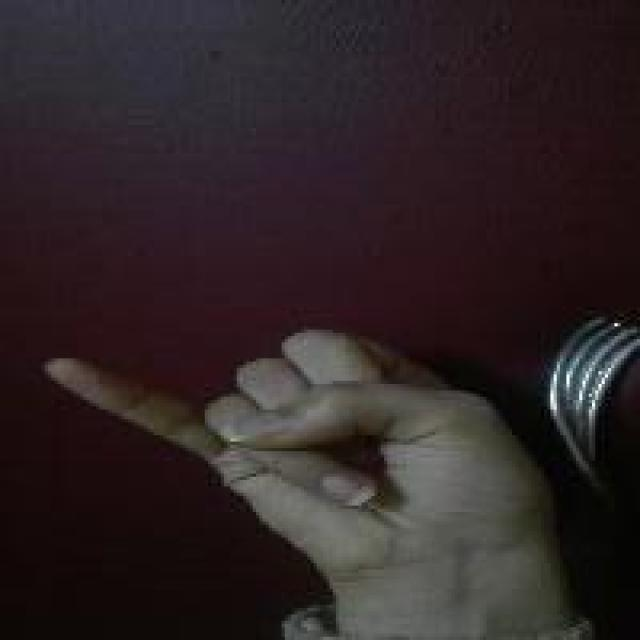J: (38, 325, 544, 571)
